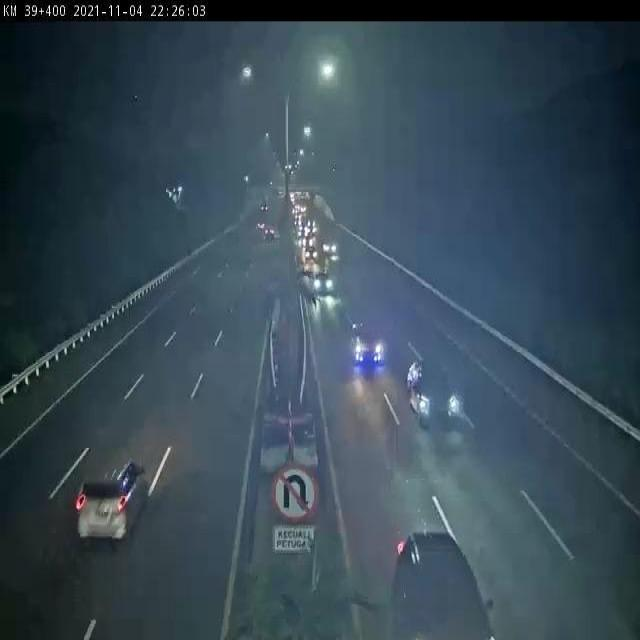car: (376, 526, 494, 634), (79, 447, 144, 545), (399, 356, 462, 437), (349, 317, 388, 375), (308, 276, 339, 292)
